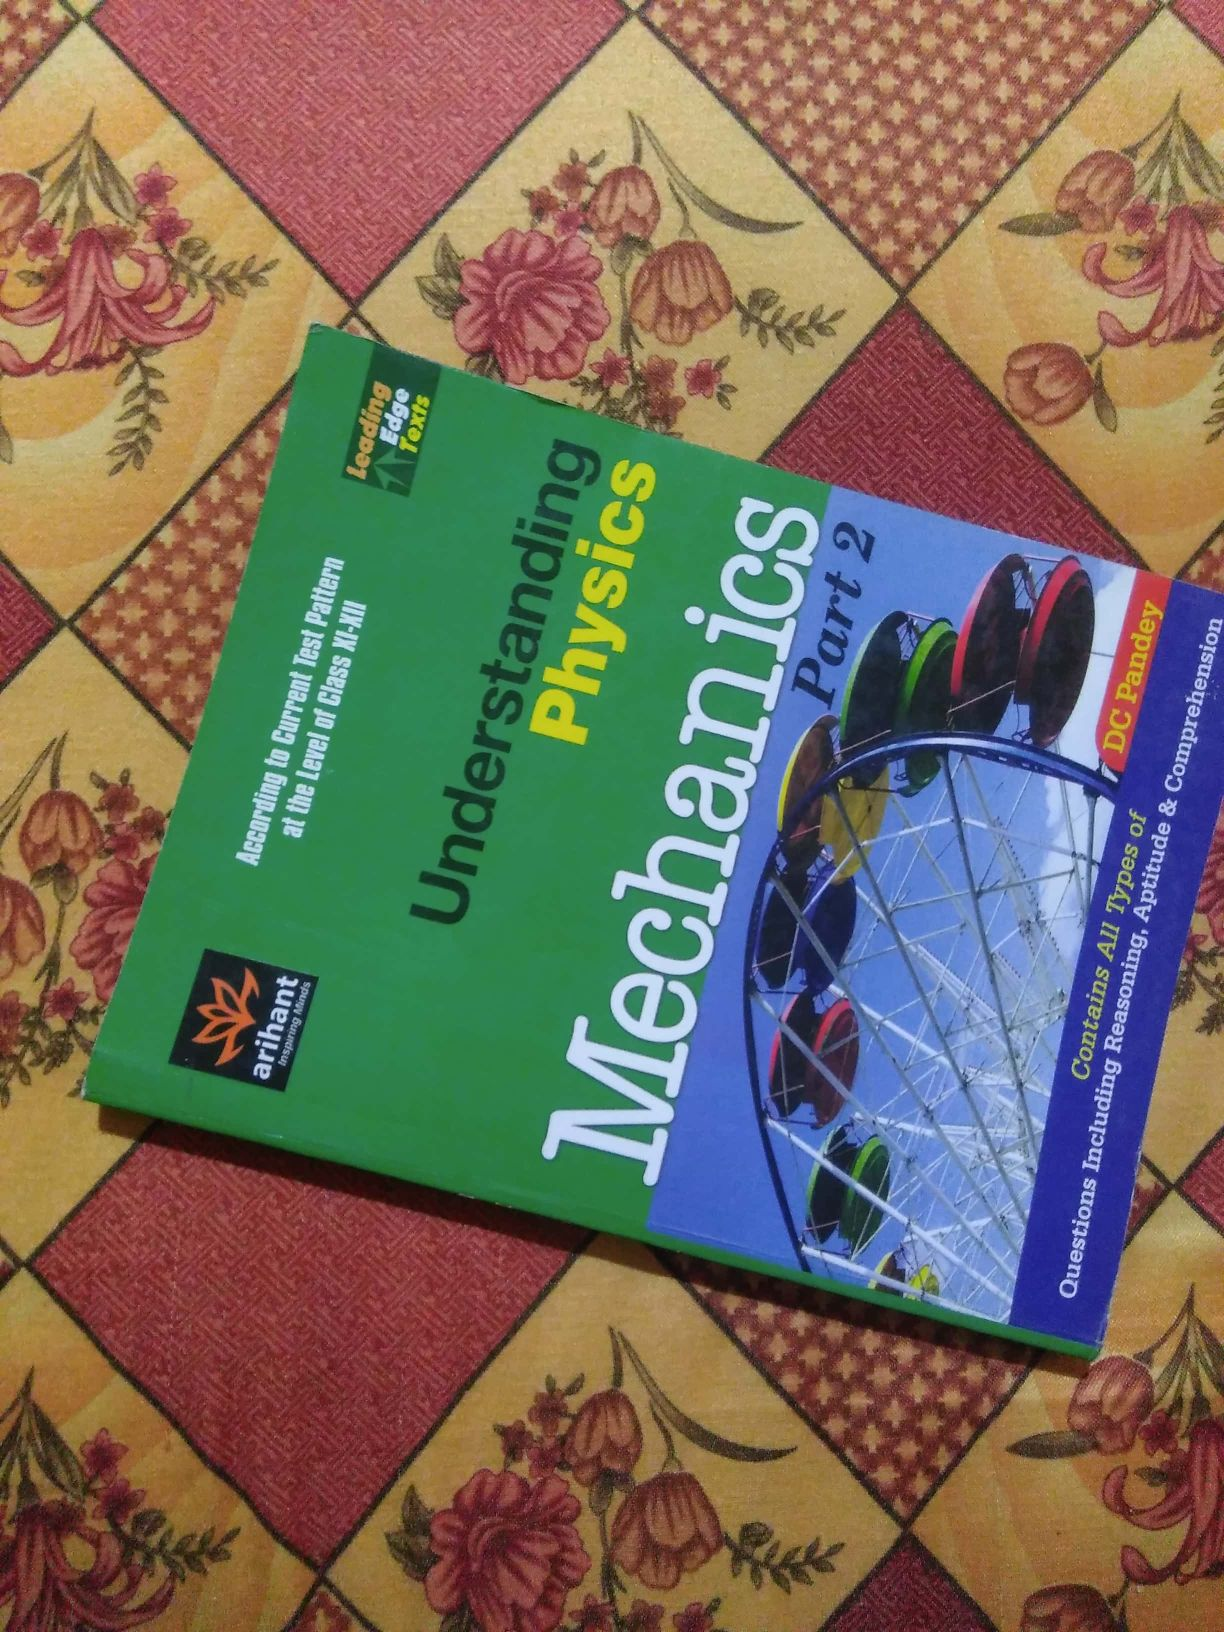mechanics: (87, 343, 1224, 1402)
